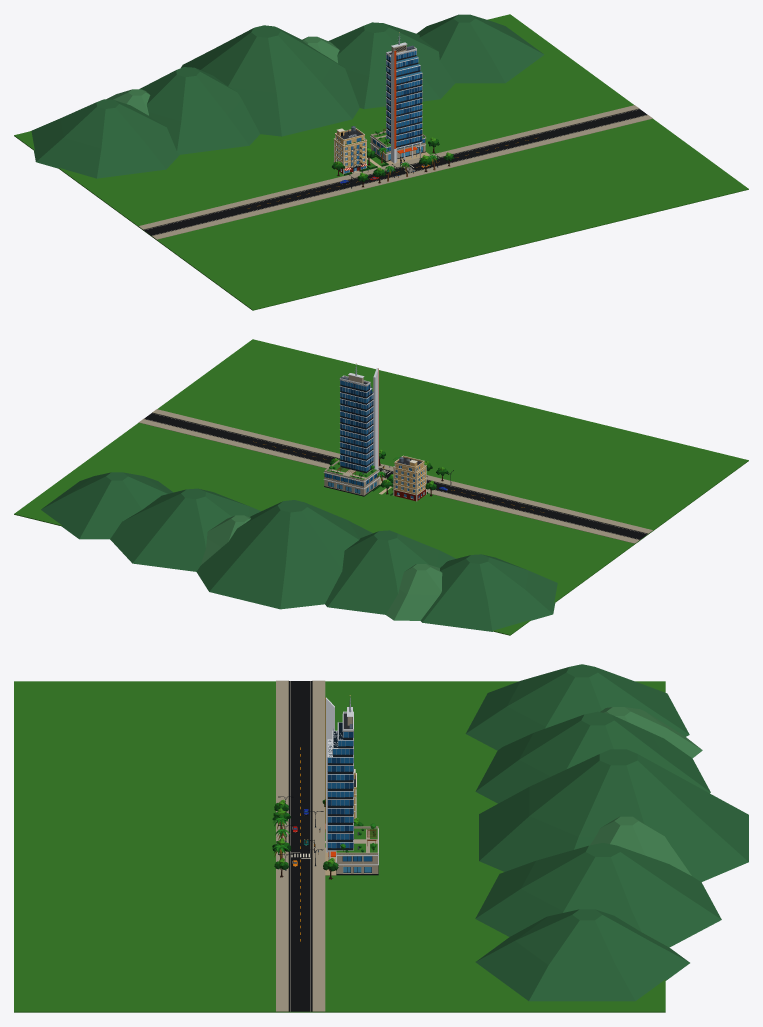
The model's file is WL_Scene_PilotStreet_A.obj.
3 views of the same model, one above another, from view 1: azimuth 30°, elevation 25°; view 2: azimuth 150°, elevation 25°; view 3: azimuth 270°, elevation 25° (orthographic). The views are drawn at different scales.
Visible parts, largest first — view 1: WL_Scene_PilotStreet_A_Ground, WL_Scene_PilotStreet_A_Hills_A, WL_Scene_PilotStreet_A_Road, WL_Scene_PilotStreet_A_Sidewalk_S, WL_Scene_PilotStreet_A_Sidewalk_N, WL_Scene_PilotStreet_A_Hills_B, WL_Scene_PilotStreet_A_Curbs; view 2: WL_Scene_PilotStreet_A_Ground, WL_Scene_PilotStreet_A_Hills_A, WL_Scene_PilotStreet_A_Road, WL_Scene_PilotStreet_A_Hills_B, WL_Scene_PilotStreet_A_Sidewalk_N, WL_Scene_PilotStreet_A_Sidewalk_S, WL_Scene_PilotStreet_A_Curbs, WL_Building_Commercial_A_Blade_Fin; view 3: WL_Scene_PilotStreet_A_Ground, WL_Scene_PilotStreet_A_Hills_A, WL_Scene_PilotStreet_A_Road, WL_Scene_PilotStreet_A_Sidewalk_N, WL_Scene_PilotStreet_A_Hills_B, WL_Scene_PilotStreet_A_Sidewalk_S, WL_Scene_PilotStreet_A_Lane_Edges, WL_Scene_PilotStreet_A_Curbs.
Boxes of the visible parts, x1,y1,x2,y2 form: WL_Scene_PilotStreet_A_Ground: (14,14,748,310); WL_Scene_PilotStreet_A_Hills_A: (31,14,544,178); WL_Scene_PilotStreet_A_Road: (144,109,647,235); WL_Scene_PilotStreet_A_Sidewalk_S: (152,115,652,239); WL_Scene_PilotStreet_A_Sidewalk_N: (138,105,638,229); WL_Scene_PilotStreet_A_Hills_B: (106,36,339,115); WL_Scene_PilotStreet_A_Curbs: (143,108,647,235); WL_Scene_PilotStreet_A_Ground: (14,339,748,635); WL_Scene_PilotStreet_A_Hills_A: (41,472,557,631); WL_Scene_PilotStreet_A_Road: (144,413,647,539); WL_Scene_PilotStreet_A_Hills_B: (200,515,442,620); WL_Scene_PilotStreet_A_Sidewalk_N: (139,419,639,543); WL_Scene_PilotStreet_A_Sidewalk_S: (152,409,652,533); WL_Scene_PilotStreet_A_Curbs: (144,412,648,539); WL_Building_Commercial_A_Blade_Fin: (373,368,378,469); WL_Scene_PilotStreet_A_Ground: (14,681,665,1012); WL_Scene_PilotStreet_A_Hills_A: (465,664,748,1001); WL_Scene_PilotStreet_A_Road: (289,681,312,1011); WL_Scene_PilotStreet_A_Sidewalk_N: (313,680,325,1011); WL_Scene_PilotStreet_A_Hills_B: (590,707,702,875); WL_Scene_PilotStreet_A_Sidewalk_S: (276,680,288,1011); WL_Scene_PilotStreet_A_Lane_Edges: (290,681,310,1011); WL_Scene_PilotStreet_A_Curbs: (288,680,312,1011).
Size of the model in its own units: 306 by 70.72 by 282.
